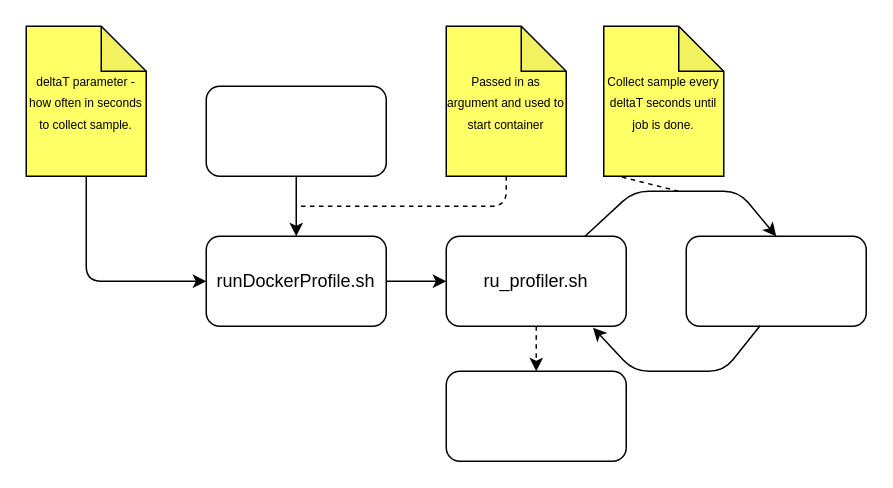
This 893x488 diagram has some shape labels left out. Here are the shapes that lost their labels. From the top down, the centre of each, then its label:
(x=295, y=130): processpack.sh
(x=775, y=280): rudataall.sh
(x=535, y=415): Json Output
